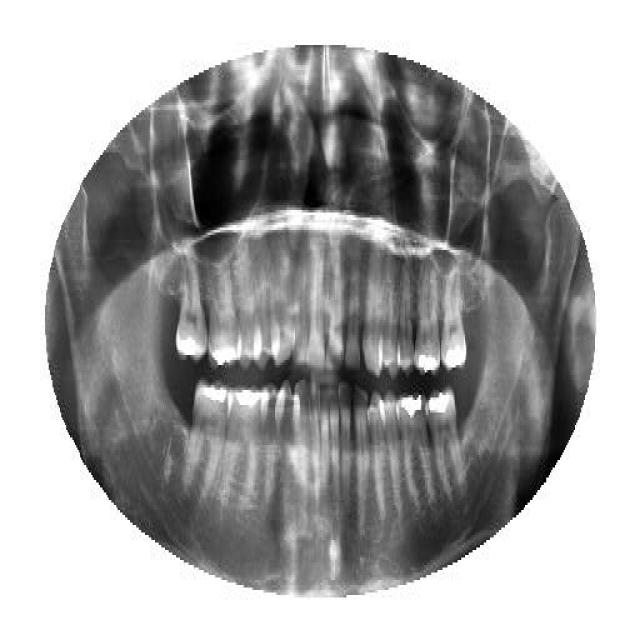Fillings: (188, 380, 232, 498), (423, 390, 468, 498), (221, 390, 264, 502), (395, 390, 433, 508), (208, 255, 244, 365), (176, 265, 208, 360), (414, 263, 441, 375), (442, 270, 468, 370)
